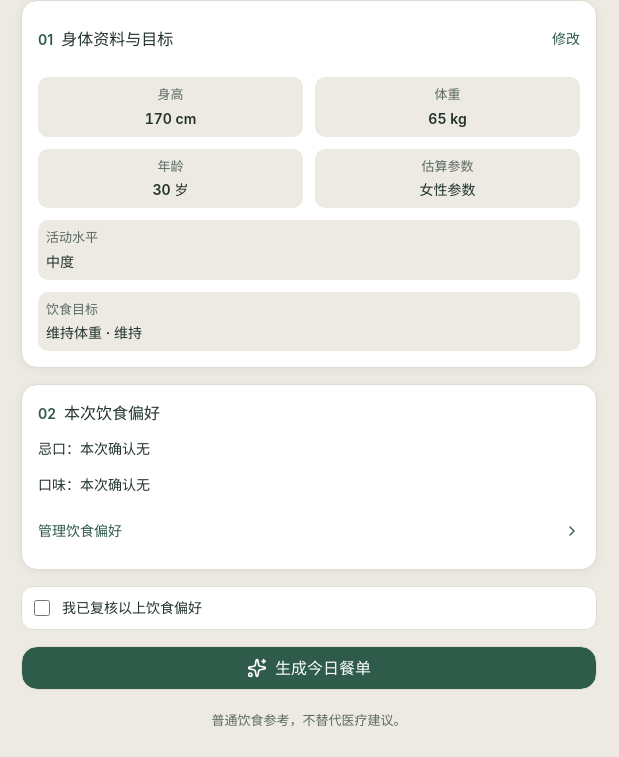
Test case: PlanPage › preserves the actionable failure without a health refusal: 午餐没有满足当前要求的可用候选。请更换菜品，或联系管理员补充、启用合格菜谱。
Expected: the text "170 cm" is shown, [145,110,196,126]
Click the checkbox labelled "我已复核以上饮食偏好".
click(42, 608)  # box [34,600,50,616]
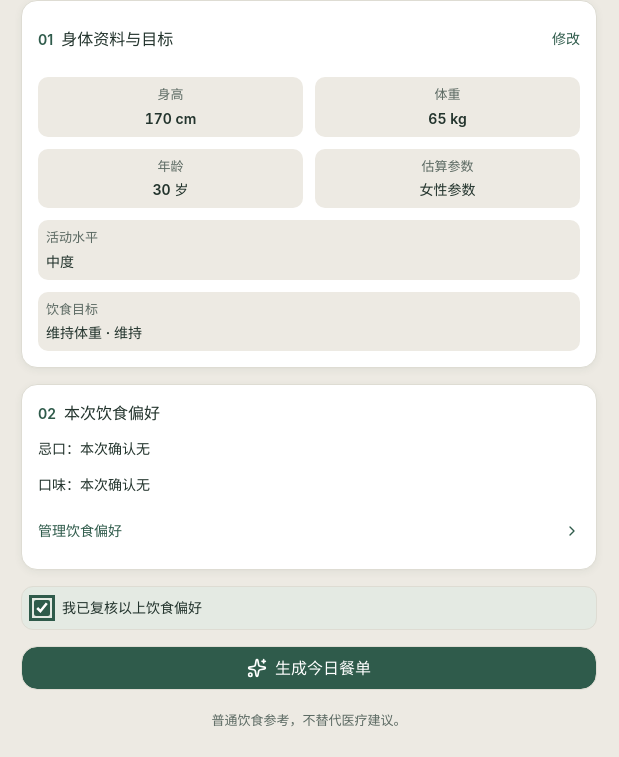
Click the button "生成今日餐单".
click(309, 668)  # box [21,646,597,690]
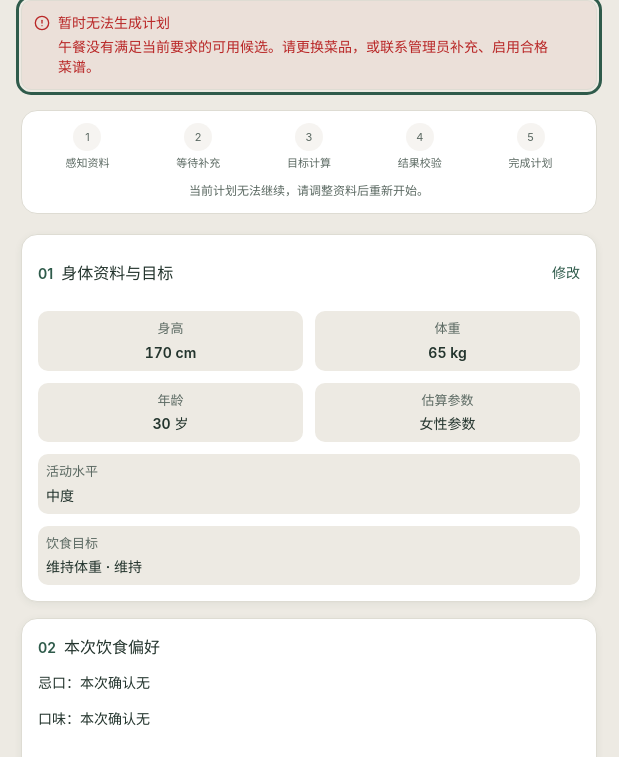
Result: the text "暂时无法生成计划" shows "午餐没有满足当前要求的可用候选。请更换菜品，或联系管理员补充、启用合格菜谱。" at [58,38,548,75]
Result: the text "午餐没有满足当前要求的可用候选。请更换菜品，或联系管理员补充、启用合格菜谱。" is shown at [58,37,584,77]
